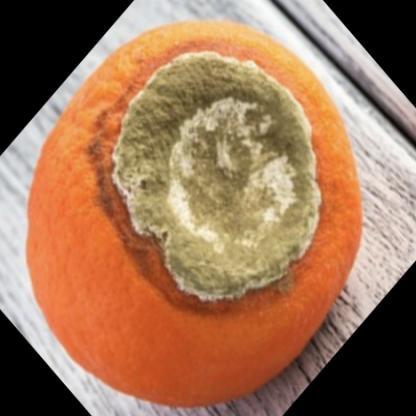rotten: (25, 22, 363, 405)
